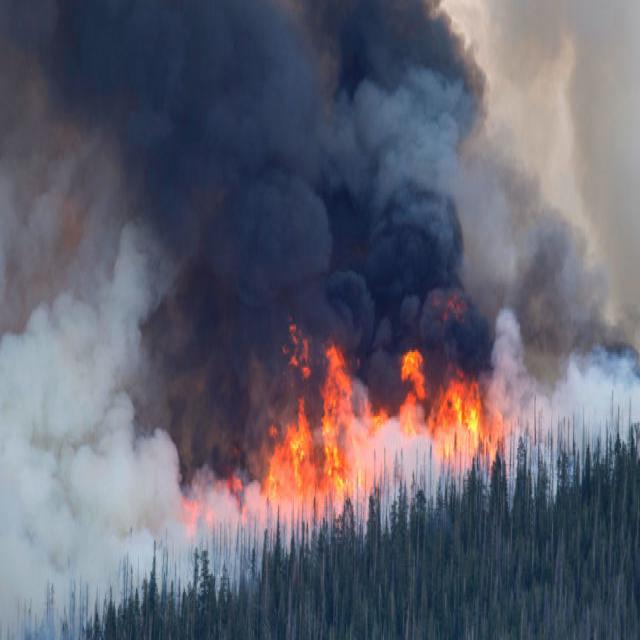Fire: (260, 352, 349, 487), (438, 366, 484, 436), (399, 350, 429, 437)
Smoke: (25, 0, 480, 348), (13, 309, 183, 610)
